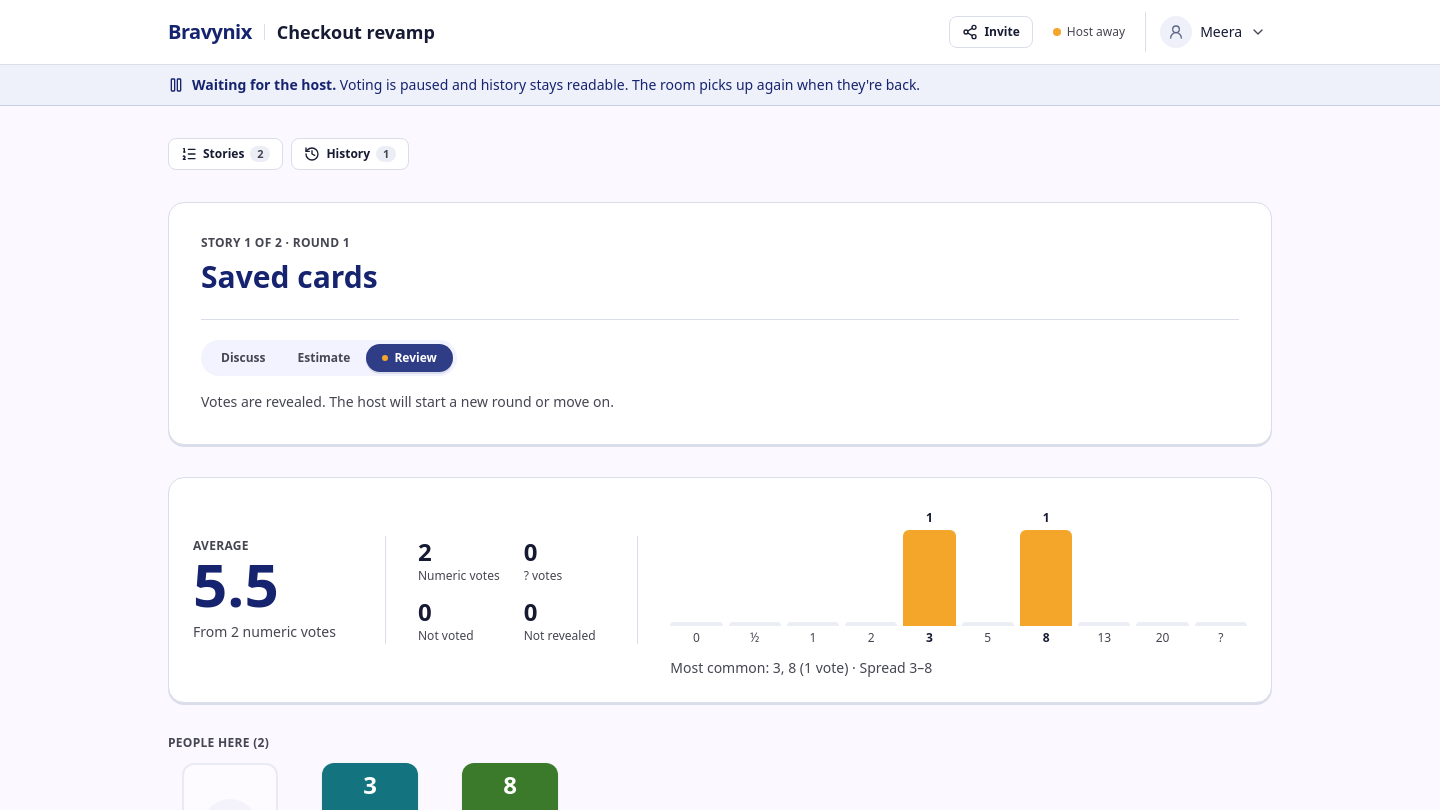
Scenario: RoomWorkspace › pauses voting while the host is away, keeping history readable (FR-047)
The width and height of the screenshot is (1440, 810).
Expected: the text "Waiting for the host." is shown, [192, 75, 336, 94]
Click the button "History 1".
click(350, 154)  # box [291, 138, 409, 170]
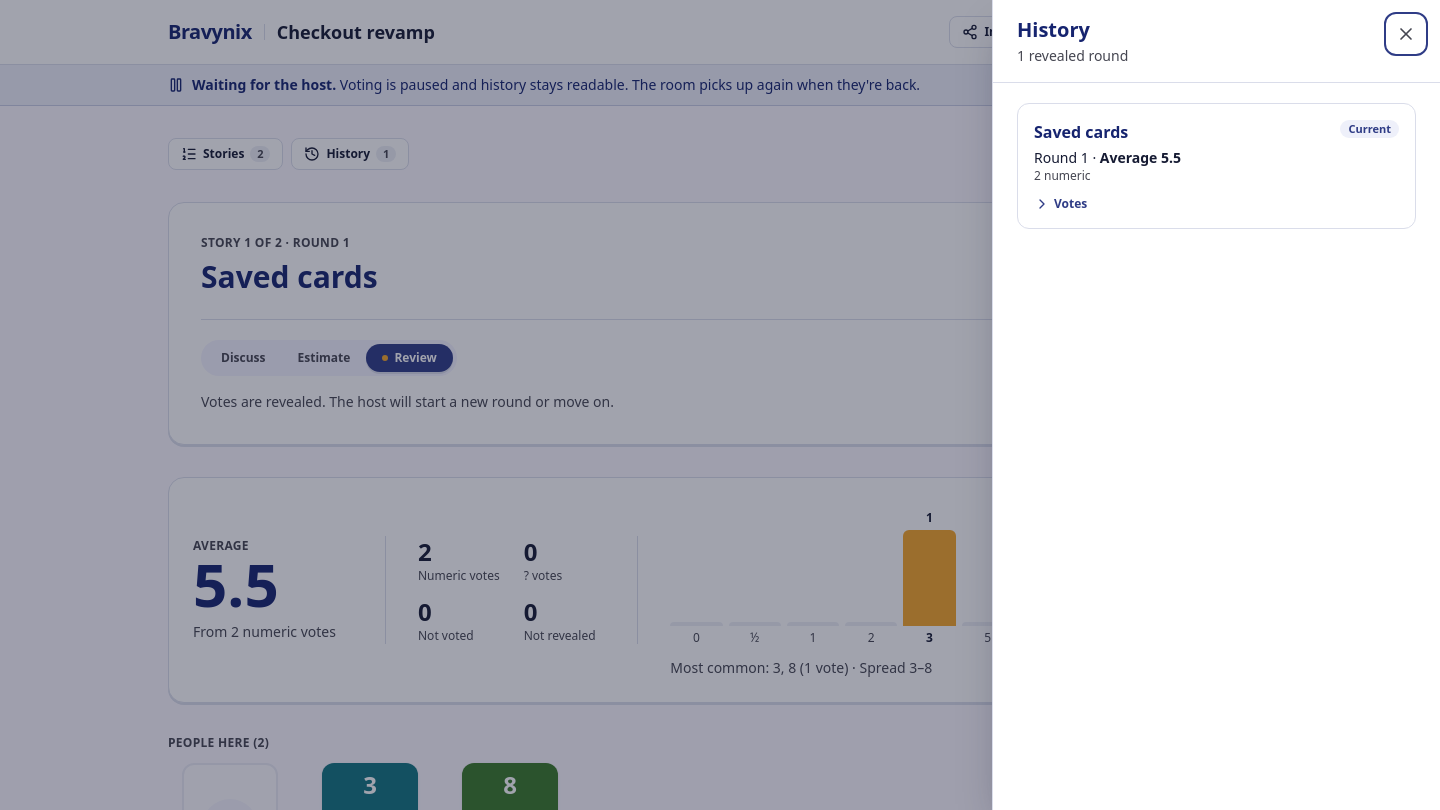
Result: the dialog "History" shows "Saved cards" at [1034, 121, 1128, 143]
